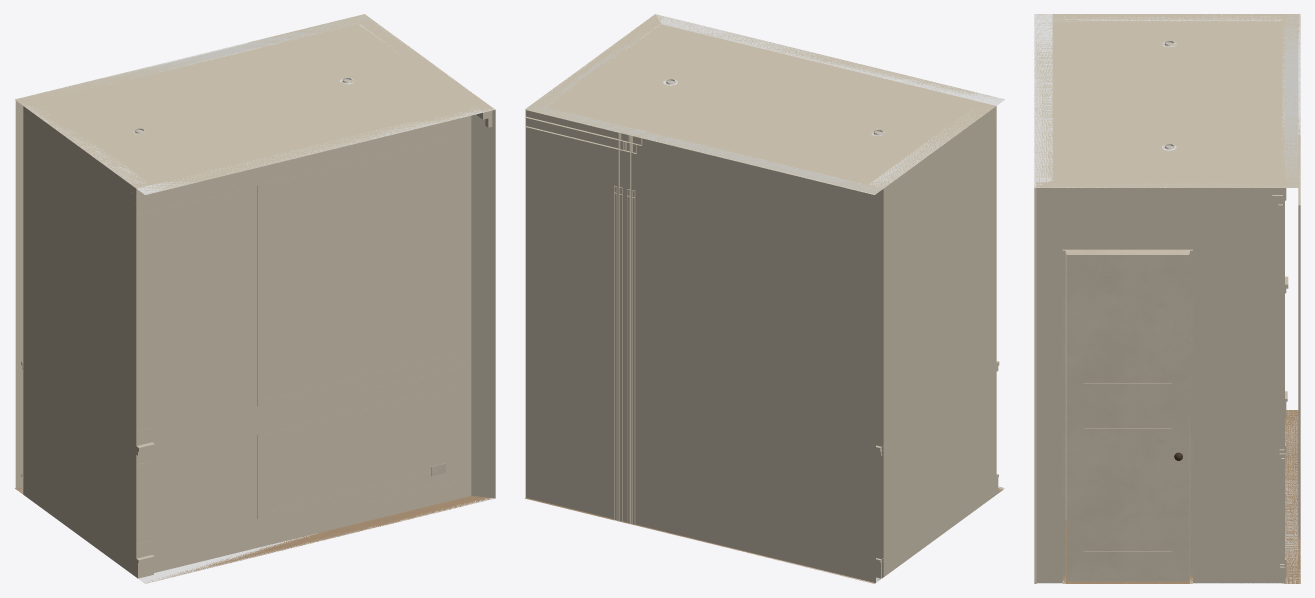
The model's file is upstairs-closet-east-b23c9e42267a.glb.
3 renders of one model, left to right at view 1: azimuth 30°, elevation 25°; view 2: azimuth 150°, elevation 25°; view 3: azimuth 270°, elevation 25°, orthographic.
Visible parts, largest first — view 1: upstairs-closet-east-6e269356ae8bfd70, upstairs-closet-east-af27112094daa34f, upstairs-closet-east-9d91b47435c6fb33, upstairs-closet-east-eb02897c2e79e2b1, upstairs-closet-east-1e72e6a7b41a2abd, upstairs-closet-east-23111371382874c8, upstairs-closet-east-eee6b1654fa02f80, upstairs-closet-east-2575515a05775d9e, upstairs-closet-east-414385708a06acff, upstairs-closet-east-3b3c25625ac8bb9a, upstairs-closet-east-1e3385c37a14aaf6, upstairs-closet-east-a5ac74805be43788; view 2: upstairs-closet-east-eb02897c2e79e2b1, upstairs-closet-east-af27112094daa34f, upstairs-closet-east-9d91b47435c6fb33, upstairs-closet-east-6e269356ae8bfd70, upstairs-closet-east-64efeecf845bccca, upstairs-closet-east-4f926054fd5f2d50, upstairs-closet-east-ed88f5d795cf56b6, upstairs-closet-east-dacde169422abe77, upstairs-closet-east-d84e51967c6a028c, upstairs-closet-east-23111371382874c8, upstairs-closet-east-3b3c25625ac8bb9a, upstairs-closet-east-e2e3a4ca5a8c504a; view 3: upstairs-closet-east-95684fa6df9df9bf, upstairs-closet-east-9d91b47435c6fb33, upstairs-closet-east-c33a54857fb1d4db, upstairs-closet-east-eb02897c2e79e2b1, upstairs-closet-east-6e269356ae8bfd70, upstairs-closet-east-2575515a05775d9e, upstairs-closet-east-664af2d0241557dd, upstairs-closet-east-3b3c25625ac8bb9a, upstairs-closet-east-af27112094daa34f, upstairs-closet-east-e2e3a4ca5a8c504a, upstairs-closet-east-4f926054fd5f2d50, upstairs-closet-east-23111371382874c8 (+1 smaller).
Part boxes in pixels (x1=…): upstairs-closet-east-6e269356ae8bfd70: x1=136, y1=107, x2=495, y2=583; upstairs-closet-east-af27112094daa34f: x1=23, y1=105, x2=147, y2=576; upstairs-closet-east-9d91b47435c6fb33: x1=15, y1=14, x2=494, y2=194; upstairs-closet-east-eb02897c2e79e2b1: x1=15, y1=15, x2=371, y2=493; upstairs-closet-east-1e72e6a7b41a2abd: x1=257, y1=137, x2=456, y2=406; upstairs-closet-east-23111371382874c8: x1=132, y1=115, x2=471, y2=205; upstairs-closet-east-eee6b1654fa02f80: x1=257, y1=387, x2=456, y2=518; upstairs-closet-east-2575515a05775d9e: x1=15, y1=487, x2=491, y2=582; upstairs-closet-east-414385708a06acff: x1=148, y1=477, x2=471, y2=555; upstairs-closet-east-3b3c25625ac8bb9a: x1=362, y1=20, x2=492, y2=127; upstairs-closet-east-1e3385c37a14aaf6: x1=143, y1=364, x2=471, y2=444; upstairs-closet-east-a5ac74805be43788: x1=136, y1=189, x2=243, y2=435; upstairs-closet-east-eb02897c2e79e2b1: x1=525, y1=104, x2=883, y2=583; upstairs-closet-east-af27112094daa34f: x1=869, y1=106, x2=996, y2=576; upstairs-closet-east-9d91b47435c6fb33: x1=525, y1=14, x2=1004, y2=194; upstairs-closet-east-6e269356ae8bfd70: x1=655, y1=14, x2=1004, y2=490; upstairs-closet-east-64efeecf845bccca: x1=618, y1=132, x2=631, y2=523; upstairs-closet-east-4f926054fd5f2d50: x1=614, y1=185, x2=617, y2=520; upstairs-closet-east-ed88f5d795cf56b6: x1=619, y1=187, x2=622, y2=522; upstairs-closet-east-dacde169422abe77: x1=632, y1=190, x2=635, y2=525; upstairs-closet-east-d84e51967c6a028c: x1=627, y1=189, x2=629, y2=523; upstairs-closet-east-23111371382874c8: x1=657, y1=27, x2=995, y2=115; upstairs-closet-east-3b3c25625ac8bb9a: x1=535, y1=15, x2=664, y2=105; upstairs-closet-east-e2e3a4ca5a8c504a: x1=860, y1=102, x2=977, y2=184; upstairs-closet-east-95684fa6df9df9bf: x1=1036, y1=180, x2=1283, y2=583; upstairs-closet-east-9d91b47435c6fb33: x1=1034, y1=14, x2=1300, y2=187; upstairs-closet-east-c33a54857fb1d4db: x1=1066, y1=253, x2=1189, y2=581; upstairs-closet-east-eb02897c2e79e2b1: x1=1282, y1=14, x2=1300, y2=583; upstairs-closet-east-6e269356ae8bfd70: x1=1034, y1=14, x2=1052, y2=583; upstairs-closet-east-2575515a05775d9e: x1=1035, y1=410, x2=1300, y2=583; upstairs-closet-east-664af2d0241557dd: x1=1062, y1=249, x2=1192, y2=583; upstairs-closet-east-3b3c25625ac8bb9a: x1=1036, y1=182, x2=1284, y2=186; upstairs-closet-east-af27112094daa34f: x1=1053, y1=14, x2=1282, y2=417; upstairs-closet-east-e2e3a4ca5a8c504a: x1=1052, y1=21, x2=1282, y2=26; upstairs-closet-east-4f926054fd5f2d50: x1=1299, y1=205, x2=1300, y2=539; upstairs-closet-east-23111371382874c8: x1=1052, y1=14, x2=1063, y2=165.
Size of the model in its own units: 2.73 by 2.91 by 1.77.
Materials: 16 (3 with a texture image).
